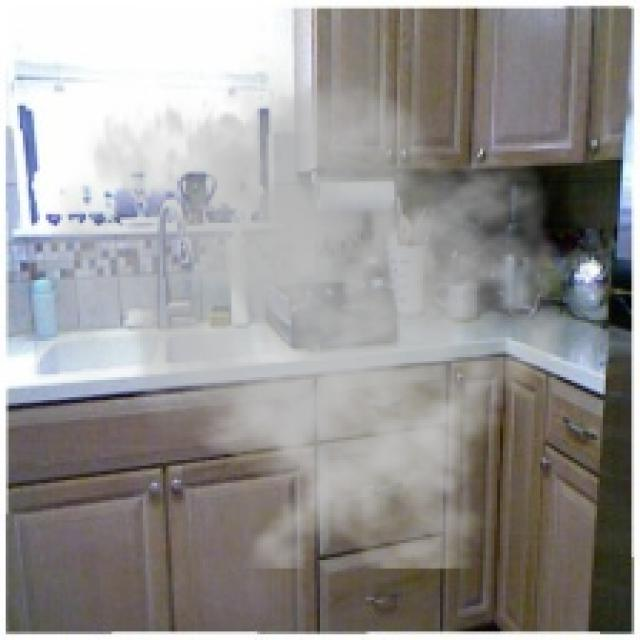smoke: (29, 34, 592, 569)
